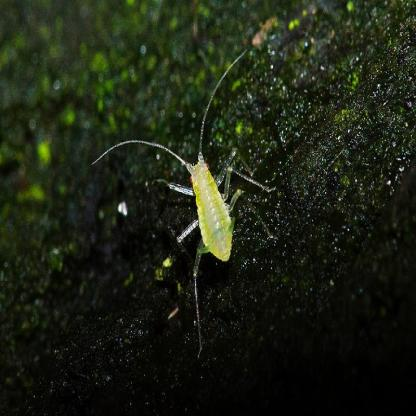aphid: (120, 63, 276, 331)
